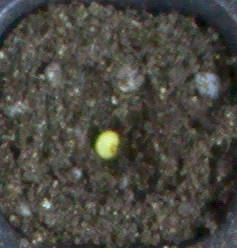chilli seed: (94, 130, 120, 158)
